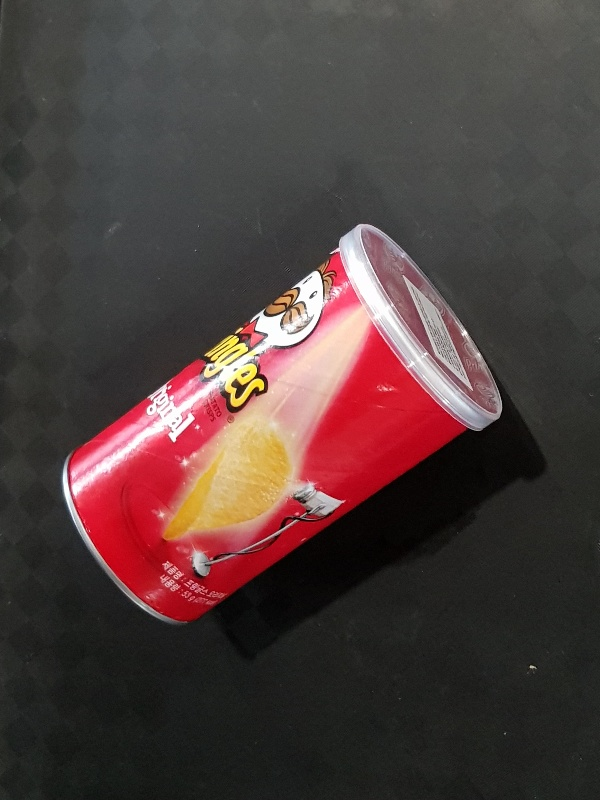Pringles Original: (57, 219, 505, 628)
